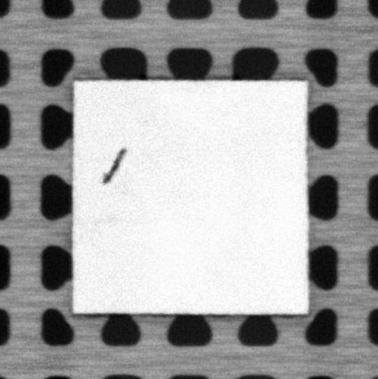DIE_INK: (101, 146, 126, 186)
